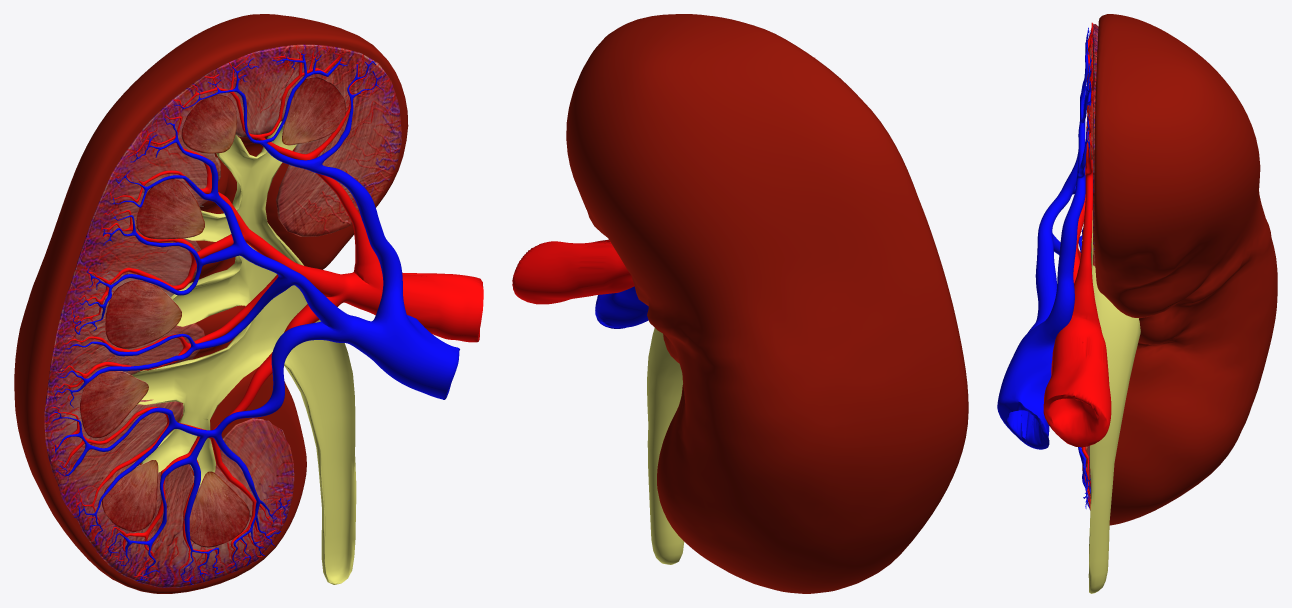
Rendered from Kidney_Section.glb.
3 renders of one model, left to right at view 1: azimuth 30°, elevation 25°; view 2: azimuth 150°, elevation 25°; view 3: azimuth 270°, elevation 25°, orthographic. The views are drawn at different scales.
Visible parts, largest first — view 1: Maya_2018:Cortex_Maya_2018:Cortex_Diffuse_0, Maya_2018:BLUE_Maya_2018:blue_0, Maya_2018:Capsule_Maya_2018:Capsule2_0, Maya_2018:Ureter_Maya_2018:Renal___Ureter_Diffuse_0, Maya_2018:Medulla pyramid_Maya_2018:03 - Default_0; view 2: Maya_2018:Capsule_Maya_2018:Capsule2_0, Maya_2018:BLUE_Maya_2018:blue_0, Maya_2018:Ureter_Maya_2018:Renal___Ureter_Diffuse_0; view 3: Maya_2018:Capsule_Maya_2018:Capsule2_0, Maya_2018:BLUE_Maya_2018:blue_0, Maya_2018:Ureter_Maya_2018:Renal___Ureter_Diffuse_0, Maya_2018:Cortex_Maya_2018:Cortex_Diffuse_0.
Part boxes in pixels (x1,y1,x2,y2): Maya_2018:Cortex_Maya_2018:Cortex_Diffuse_0: [44, 44, 401, 587]; Maya_2018:BLUE_Maya_2018:blue_0: [49, 46, 483, 584]; Maya_2018:Capsule_Maya_2018:Capsule2_0: [14, 14, 408, 593]; Maya_2018:Ureter_Maya_2018:Renal___Ureter_Diffuse_0: [132, 121, 356, 584]; Maya_2018:Medulla pyramid_Maya_2018:03 - Default_0: [80, 76, 346, 547]; Maya_2018:Capsule_Maya_2018:Capsule2_0: [566, 14, 968, 593]; Maya_2018:BLUE_Maya_2018:blue_0: [512, 57, 814, 328]; Maya_2018:Ureter_Maya_2018:Renal___Ureter_Diffuse_0: [647, 328, 684, 564]; Maya_2018:Capsule_Maya_2018:Capsule2_0: [1094, 14, 1277, 525]; Maya_2018:BLUE_Maya_2018:blue_0: [997, 22, 1111, 510]; Maya_2018:Ureter_Maya_2018:Renal___Ureter_Diffuse_0: [1088, 210, 1140, 593]; Maya_2018:Cortex_Maya_2018:Cortex_Diffuse_0: [1086, 24, 1098, 503].
Size of the model in its own units: 8.47 by 10.1 by 4.88.
6 materials, 2 textured.
